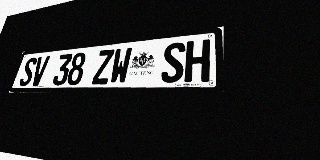3: (52, 53, 73, 85)
8: (66, 52, 88, 85)
H: (184, 39, 210, 82)
S: (160, 42, 186, 83), (18, 57, 38, 86)
V: (30, 56, 50, 86)
W: (109, 47, 132, 84)
Z: (91, 49, 115, 85)
